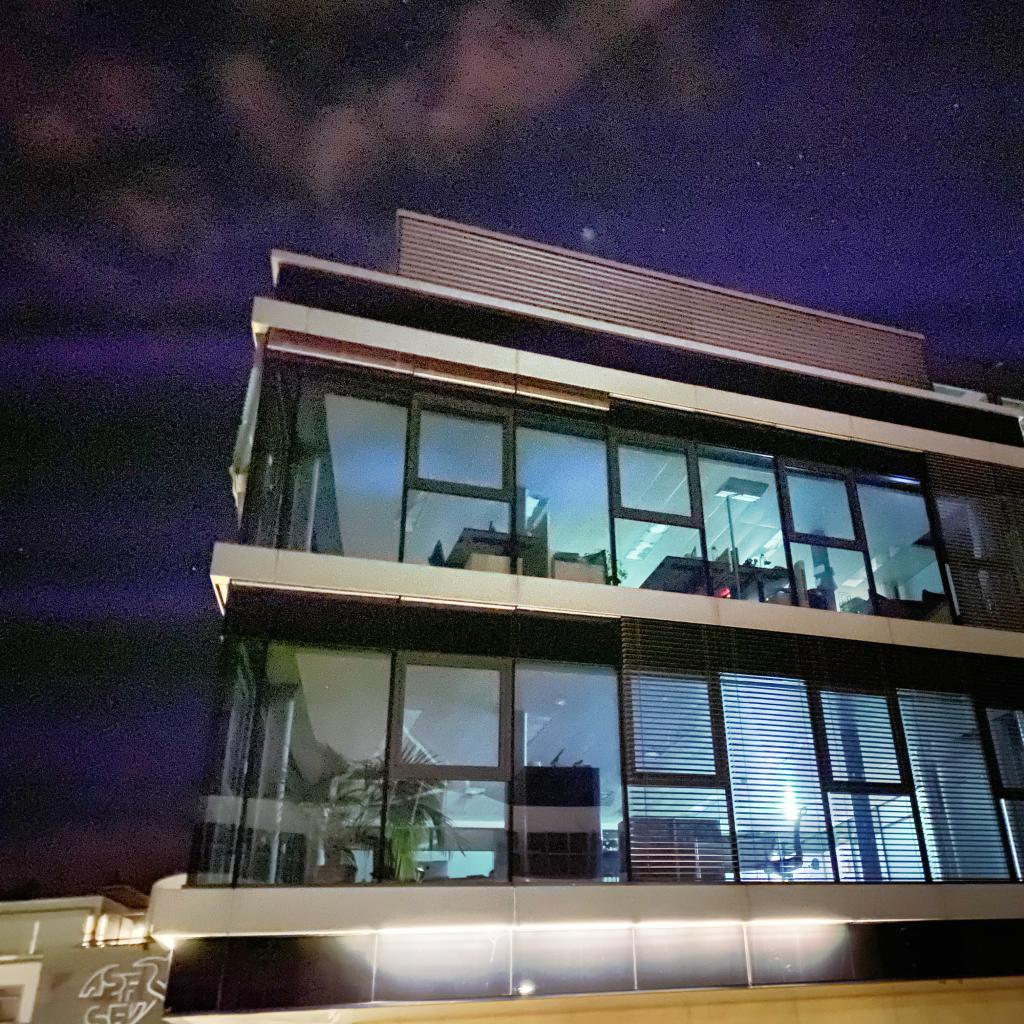facade: (0, 206, 1024, 1024)
window: (185, 584, 1024, 887), (235, 336, 1024, 633), (159, 914, 1024, 1020)
